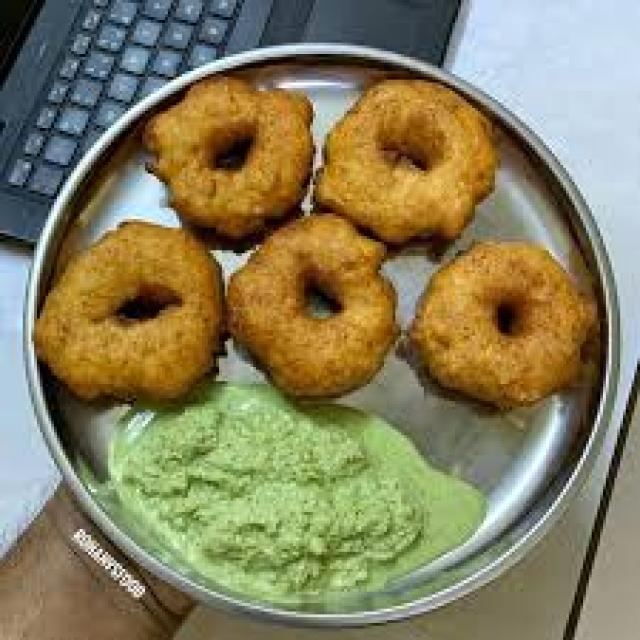MEDU VADA: (35, 224, 227, 397), (34, 223, 221, 399), (414, 237, 594, 403), (318, 78, 495, 239), (157, 83, 317, 235), (101, 277, 179, 330), (207, 117, 264, 183), (382, 126, 443, 179), (293, 267, 347, 321), (486, 292, 528, 344)
